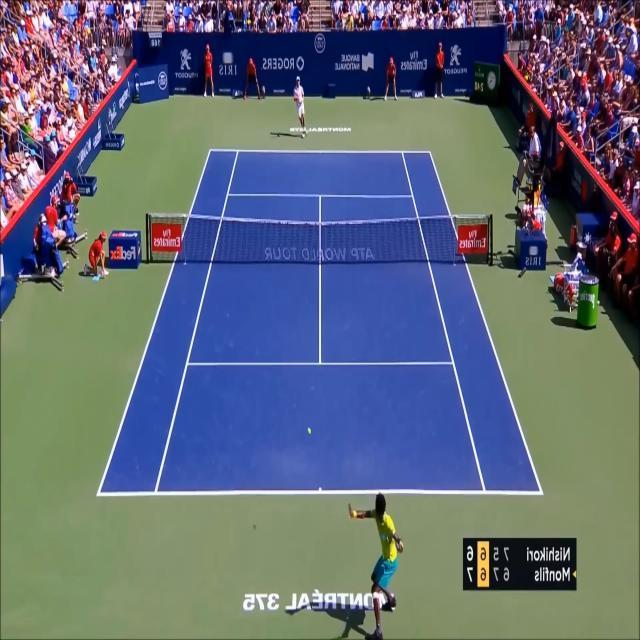court: (95, 149, 544, 497)
net: (143, 209, 494, 265)
player: (348, 493, 404, 640)
